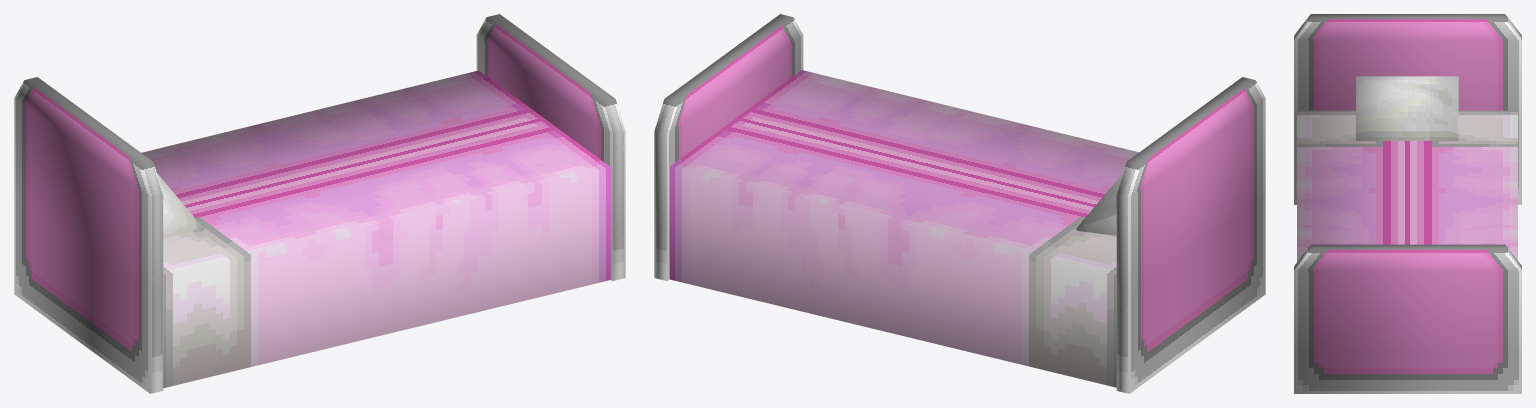
3 renders of one model, left to right at view 1: azimuth 30°, elevation 25°; view 2: azimuth 150°, elevation 25°; view 3: azimuth 270°, elevation 25°, orthographic. The views are drawn at different scales.
Parts seen in each view (by area): view 1: 3227IMSD01_13; view 2: 3227IMSD01_13; view 3: 3227IMSD01_13.
Part boxes in pixels (x1,y1,x2,y2): 3227IMSD01_13: (14, 14, 625, 393); 3227IMSD01_13: (654, 14, 1265, 393); 3227IMSD01_13: (1294, 14, 1521, 393).
Bounding box in the file's own units: 1.94 × 0.863 × 0.9602.
Materials: 2 (2 with a texture image).
